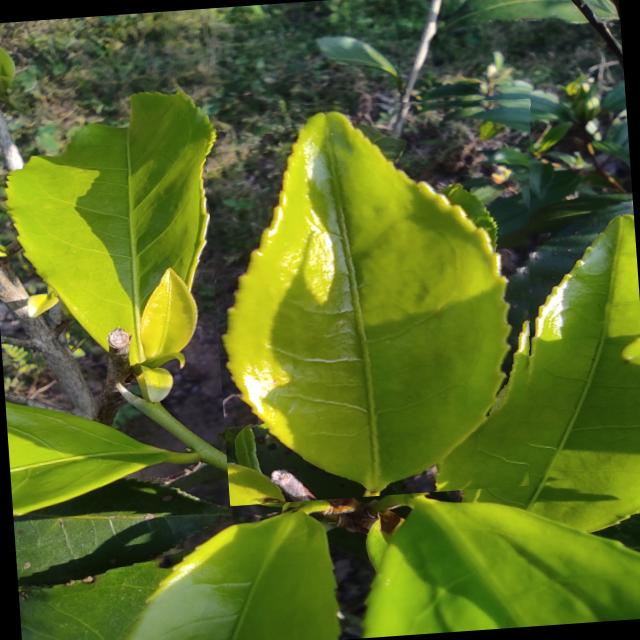Category B(2-4 days): (202, 83, 557, 505)
